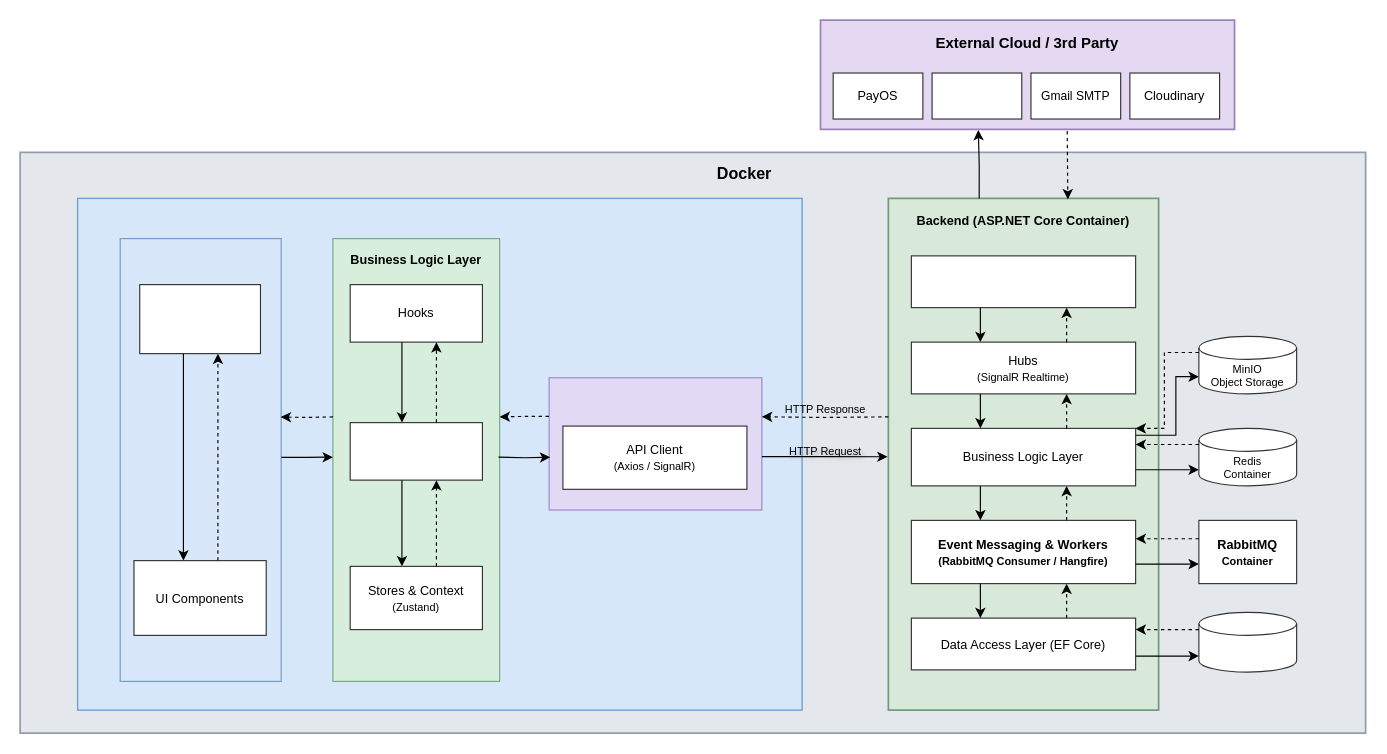
Some shapes in this 1387 by 754 pixel diagram are drawn without their labels. Here are the shapes that lost their labels. From the top down, the box of each, then its label:
(931, 72, 1022, 119): VietMap
(910, 255, 1136, 308): Controllers (REST API)
(139, 283, 260, 354): Pages
(119, 237, 281, 681): Presentation Layer
(349, 421, 482, 480): Services (API)
(76, 197, 802, 710): Website Client (React Container)
(548, 377, 762, 510): Network Layer
(1198, 611, 1297, 672): PostgreSQL Container
